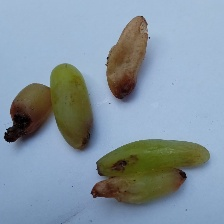grapes: (14, 26, 215, 209)
